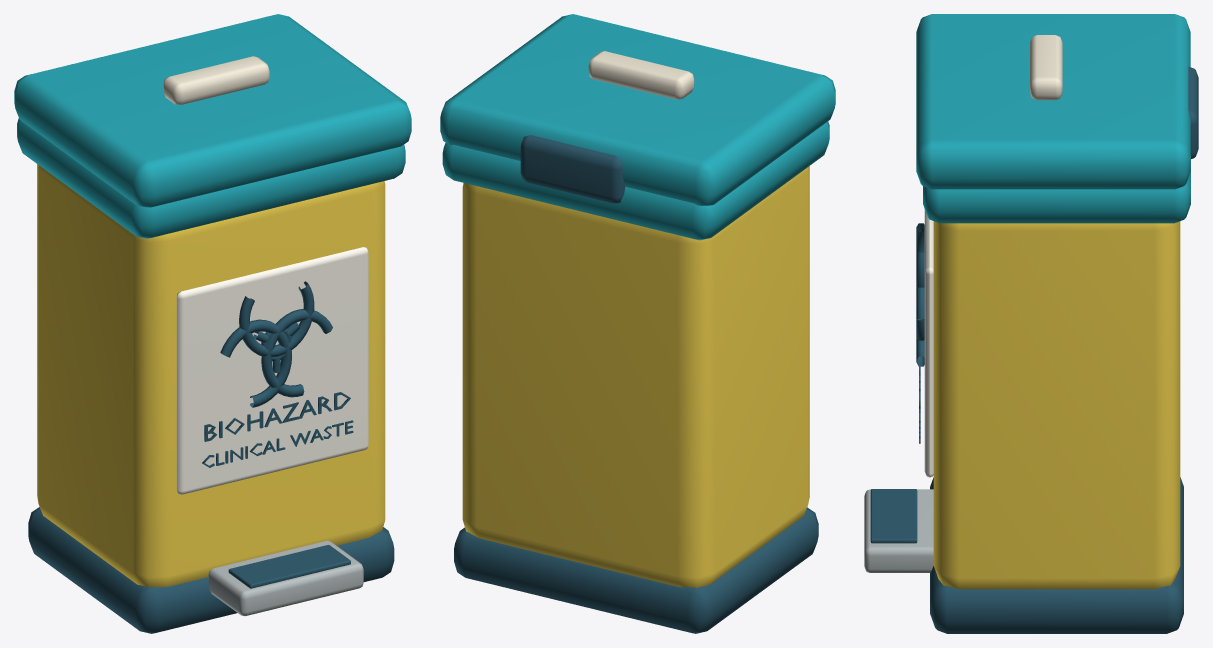
The model's file is Clinical_Biohazard_Bin.glb.
3 views of the same model, side by side, from view 1: azimuth 30°, elevation 25°; view 2: azimuth 150°, elevation 25°; view 3: azimuth 270°, elevation 25° (orthographic). The views are drawn at different scales.
Parts seen in each view (by area): view 1: Clinical_Biohazard_Bin_clinical yellow, Clinical_Biohazard_Bin_teal, Clinical_Biohazard_Bin_paper, Clinical_Biohazard_Bin_navy, Clinical_Biohazard_Bin_steel, Clinical_Biohazard_Bin_cream; view 2: Clinical_Biohazard_Bin_clinical yellow, Clinical_Biohazard_Bin_teal, Clinical_Biohazard_Bin_navy, Clinical_Biohazard_Bin_cream; view 3: Clinical_Biohazard_Bin_clinical yellow, Clinical_Biohazard_Bin_teal, Clinical_Biohazard_Bin_navy, Clinical_Biohazard_Bin_steel, Clinical_Biohazard_Bin_paper, Clinical_Biohazard_Bin_cream.
Boxes of the visible parts, x1=… form: Clinical_Biohazard_Bin_clinical yellow: x1=37, y1=164, x2=385, y2=587; Clinical_Biohazard_Bin_teal: x1=14, y1=14, x2=411, y2=238; Clinical_Biohazard_Bin_paper: x1=176, y1=247, x2=368, y2=494; Clinical_Biohazard_Bin_navy: x1=28, y1=281, x2=394, y2=633; Clinical_Biohazard_Bin_steel: x1=208, y1=540, x2=363, y2=616; Clinical_Biohazard_Bin_cream: x1=163, y1=56, x2=269, y2=104; Clinical_Biohazard_Bin_clinical yellow: x1=462, y1=166, x2=809, y2=587; Clinical_Biohazard_Bin_teal: x1=440, y1=14, x2=835, y2=240; Clinical_Biohazard_Bin_navy: x1=454, y1=135, x2=818, y2=633; Clinical_Biohazard_Bin_cream: x1=588, y1=51, x2=694, y2=99; Clinical_Biohazard_Bin_clinical yellow: x1=933, y1=221, x2=1180, y2=589; Clinical_Biohazard_Bin_teal: x1=916, y1=14, x2=1190, y2=223; Clinical_Biohazard_Bin_navy: x1=870, y1=67, x2=1198, y2=633; Clinical_Biohazard_Bin_steel: x1=864, y1=489, x2=933, y2=572; Clinical_Biohazard_Bin_paper: x1=924, y1=209, x2=933, y2=477; Clinical_Biohazard_Bin_cream: x1=1030, y1=35, x2=1062, y2=100.
Size of the model in its own units: 0.3636 by 0.627 by 0.3646.
